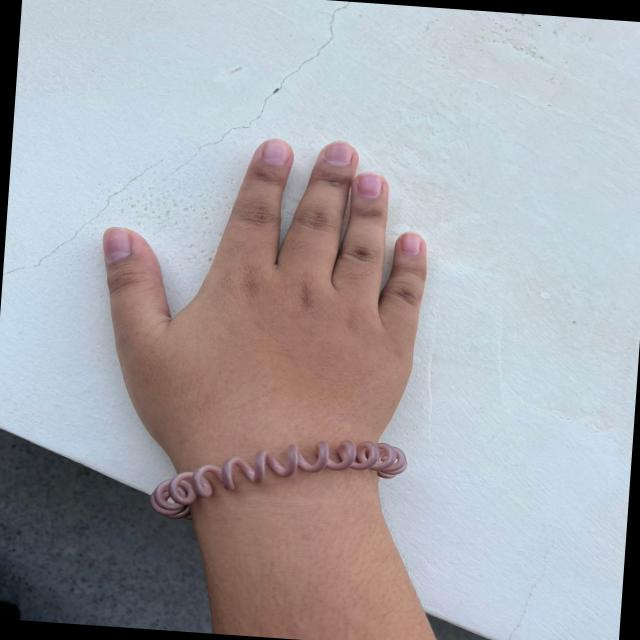Nail: (104, 228, 131, 263), (262, 139, 290, 166), (324, 141, 353, 165), (357, 172, 382, 198), (400, 231, 421, 255)
